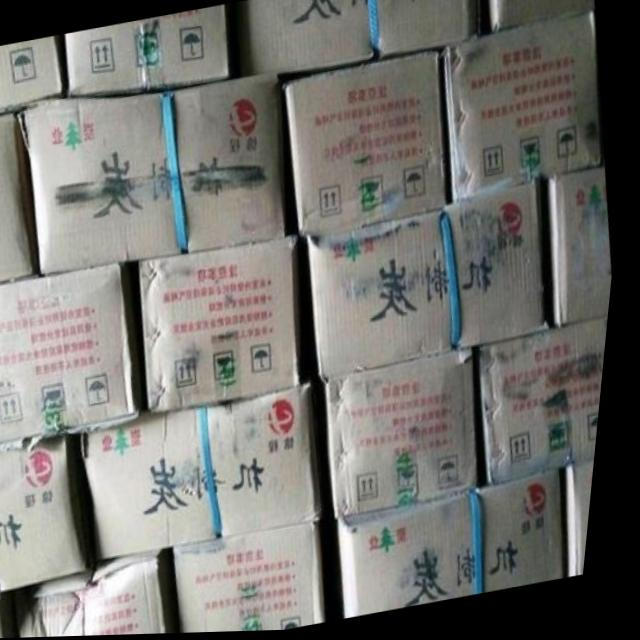box: (20, 75, 296, 274), (310, 186, 558, 380), (88, 382, 332, 567), (347, 473, 580, 619), (281, 46, 454, 241), (440, 13, 608, 208), (142, 237, 310, 411), (0, 259, 146, 456), (332, 346, 489, 518), (482, 314, 615, 493), (225, 0, 481, 80), (181, 521, 339, 634), (0, 554, 188, 639), (0, 432, 95, 590), (64, 11, 230, 98), (549, 169, 617, 328), (0, 111, 45, 285), (0, 38, 65, 114), (480, 0, 596, 36), (576, 466, 604, 578)
